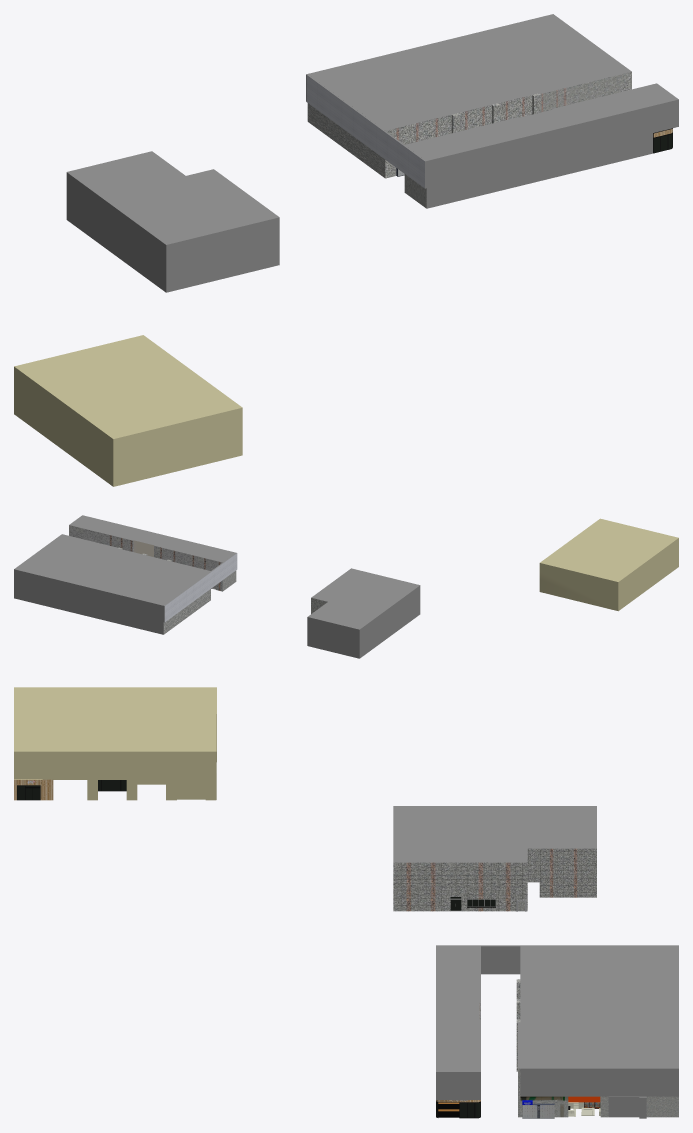
Rendered from MainBuildings.fbx.
3 views of the same model, one above another, from view 1: azimuth 30°, elevation 25°; view 2: azimuth 150°, elevation 25°; view 3: azimuth 270°, elevation 25° (orthographic). The views are drawn at different scales.
Visible parts, largest first — view 1: Object036, Object001, Object050, Box007, Object047; view 2: Object036, Object001, Object050, Box007, Object047; view 3: Object036, Object001, Object050, Box007, Object047.
Part boxes in pixels (x1,y1,x2,y2): Object036: (307,14,631,178); Object001: (14,335,242,486); Object050: (66,151,279,292); Box007: (404,83,678,208); Object047: (306,74,426,188); Object036: (14,534,210,634); Object001: (539,518,678,611); Object050: (307,568,420,658); Box007: (69,515,236,591); Object047: (163,552,237,622); Object036: (516,946,678,1118); Object001: (14,687,216,800); Object050: (393,806,596,911); Box007: (436,946,480,1118); Object047: (436,945,678,974).
Size of the model in its own units: 118 by 7.01 by 86.48.
36 materials, 19 textured.
